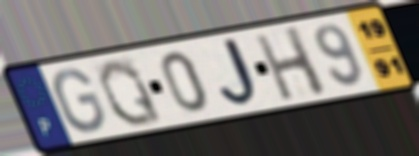0: (158, 49, 214, 115)
9: (312, 22, 366, 89)
G: (51, 66, 108, 134)
H: (251, 24, 331, 103)
J: (218, 34, 267, 111)
Q: (96, 57, 166, 129)
